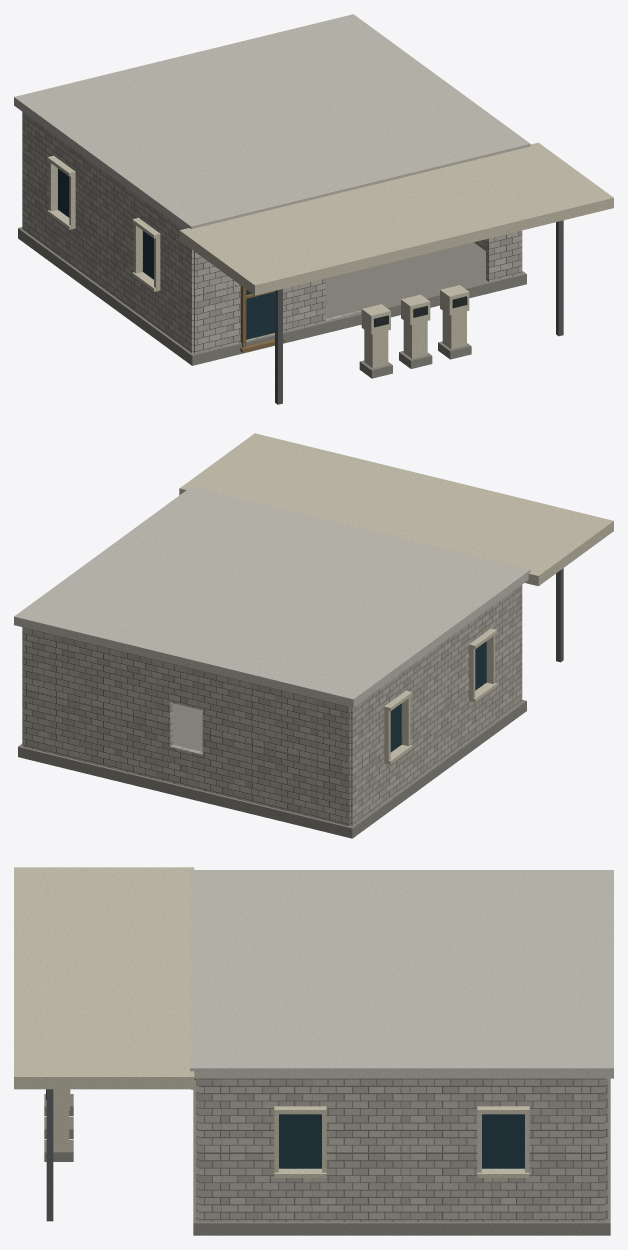
Rendered from GASB2_lod2.glb.
The picture shows the model from 3 angles, top to bottom: view 1: azimuth 30°, elevation 25°; view 2: azimuth 150°, elevation 25°; view 3: azimuth 270°, elevation 25°; orthographic projection. The views are drawn at different scales.
Parts seen in each view (by area): view 1: GASB2_LOD2; view 2: GASB2_LOD2; view 3: GASB2_LOD2.
Boxes of the visible parts, x1=… form: GASB2_LOD2: x1=14, y1=14, x2=613, y2=404; GASB2_LOD2: x1=14, y1=433, x2=613, y2=838; GASB2_LOD2: x1=14, y1=867, x2=613, y2=1235.
Size of the model in its own units: 11 by 4.12 by 13.3.
Materials: 9 (7 with a texture image).
